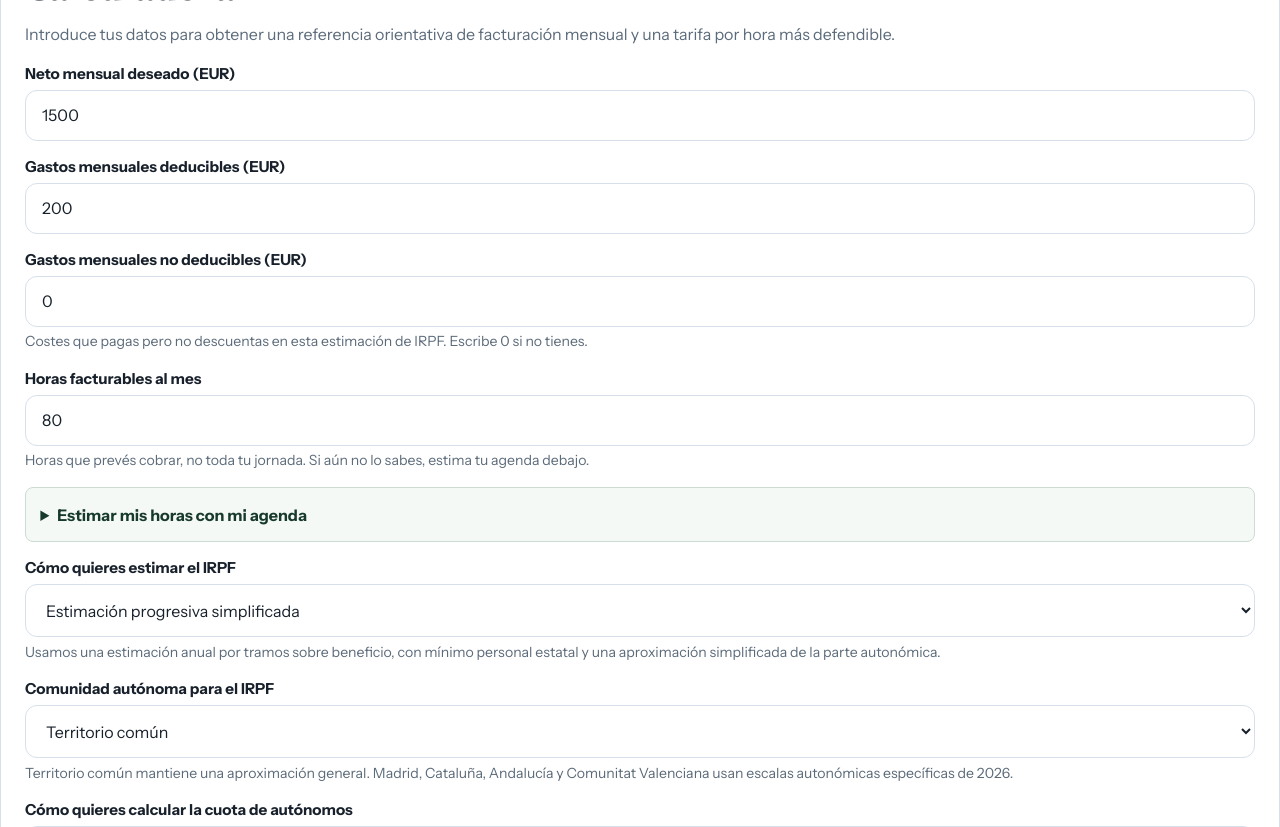
Test case: CalculatorForm › shows an error and blocks results when billable hours are 0
Replace the text in the number field labelled "Horas facturables al mes" with "0" at (640, 420), box [25,395,1255,446]
(page scrolled)
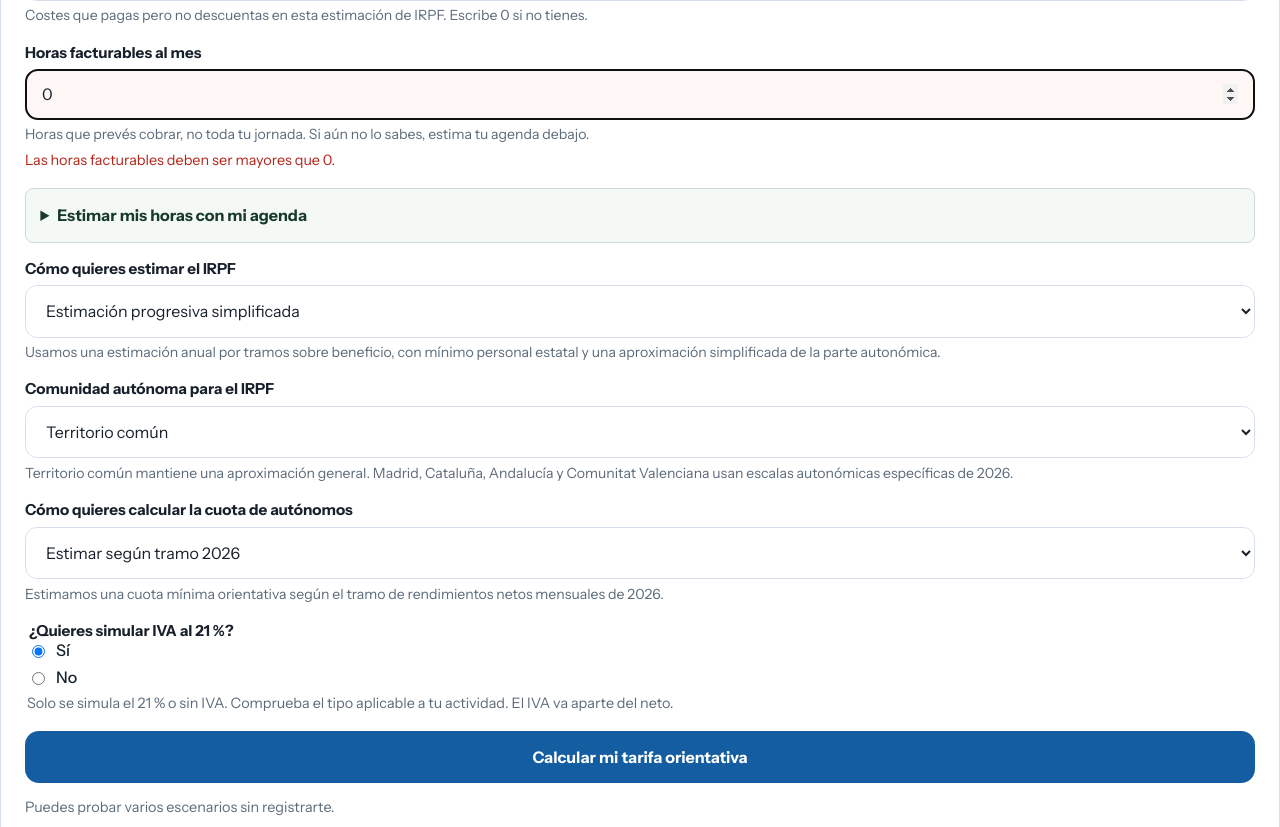
Click the button "Calcular mi tarifa orientativa" at (640, 757), box [25,731,1255,783]
(page scrolled)
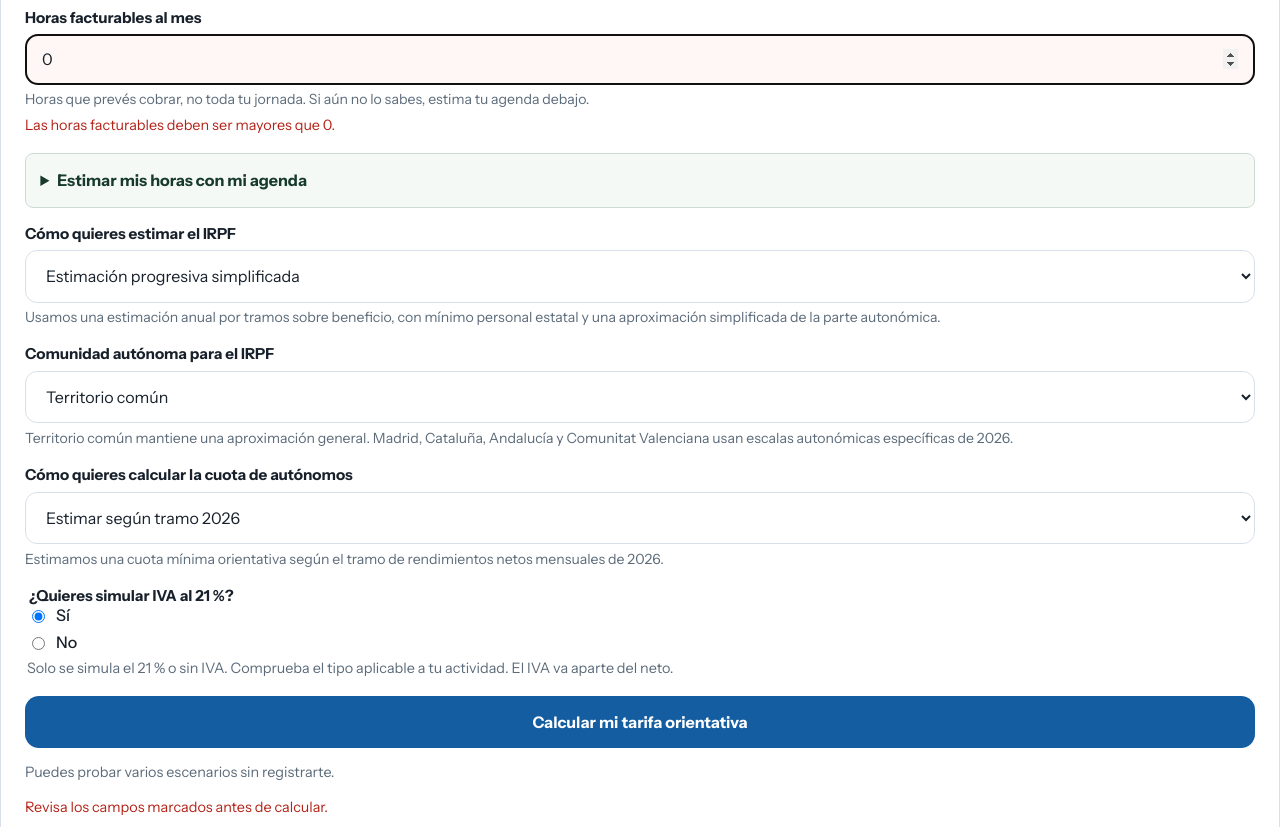
Result: the text "Las horas facturables deben ser mayores que 0." is shown at [25,116,335,134]
Result: the text "Revisa los campos marcados antes de calcular." is shown at [25,798,328,816]
